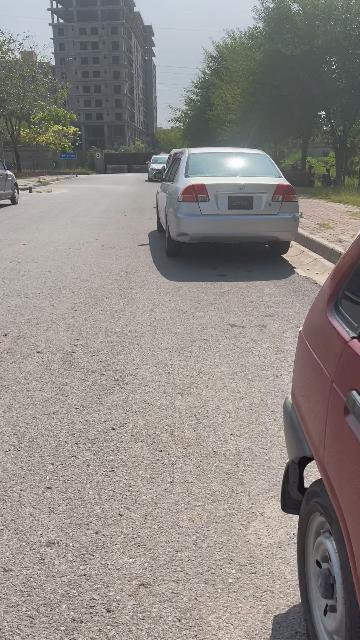plate: (227, 194, 255, 210)
